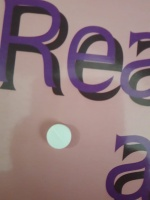Arveles: (45, 122, 72, 150)
